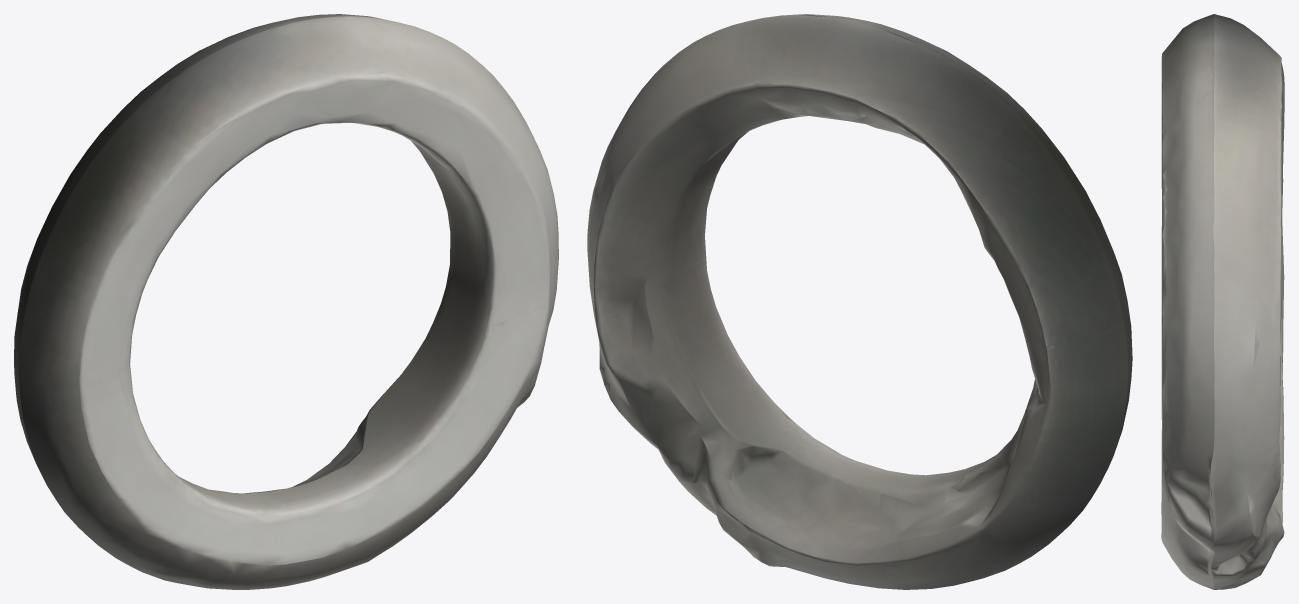
File: m2TrialRing.glb
3 renders of one model, left to right at view 1: azimuth 30°, elevation 25°; view 2: azimuth 150°, elevation 25°; view 3: azimuth 270°, elevation 25°, orthographic. The views are drawn at different scales.
Visible parts, largest first — view 1: model; view 2: model; view 3: model.
Part boxes in pixels (box(x1,y1,x2,y2)): model: box(14, 14, 558, 589); model: box(587, 14, 1132, 589); model: box(1161, 14, 1284, 589).
Size of the model in its own units: 1.9 by 1.89 by 0.4083.
1 material, 1 textured.
